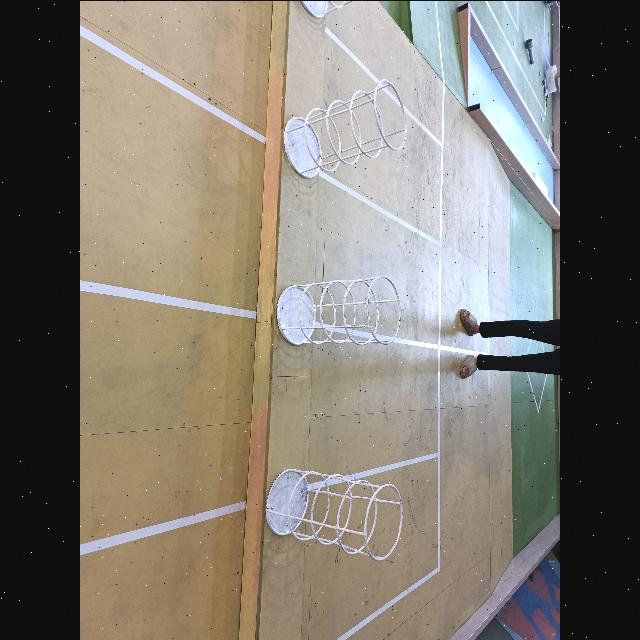S: (267, 466, 405, 564), (283, 75, 410, 180), (274, 272, 404, 345)
